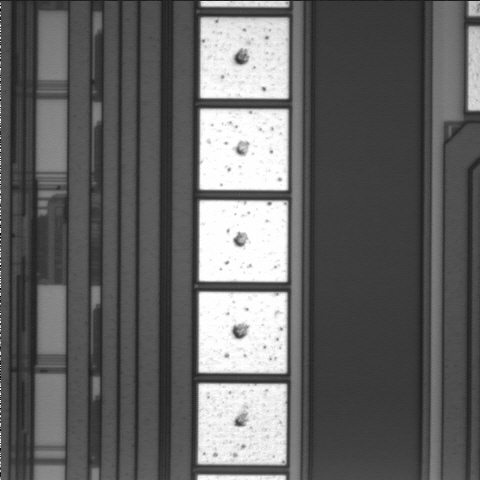pad: (199, 200, 288, 282), (200, 18, 289, 99), (199, 109, 288, 190), (198, 384, 287, 465), (199, 292, 287, 373)
